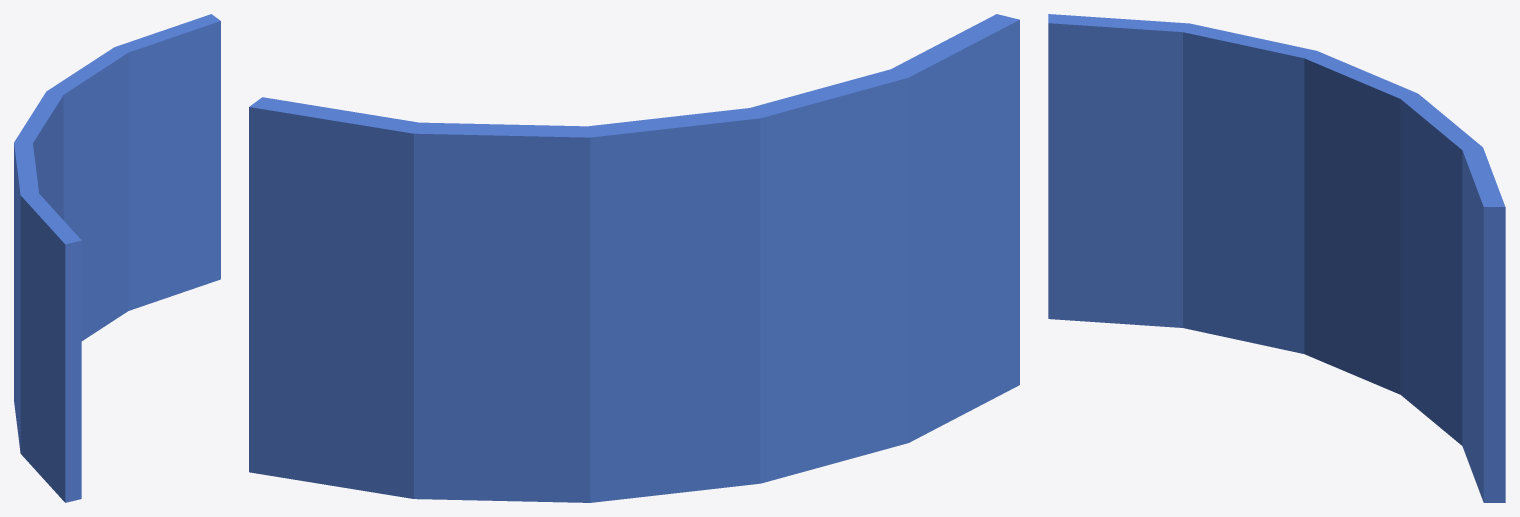
Rendered from WallPipe_Corner_Round_Inner_Collision.fbx.
3 renders of one model, left to right at view 1: azimuth 30°, elevation 25°; view 2: azimuth 150°, elevation 25°; view 3: azimuth 270°, elevation 25°, orthographic. The views are drawn at different scales.
Visible parts, largest first — view 1: WallPipe_Corner_Round_Inner_Collision; view 2: WallPipe_Corner_Round_Inner_Collision; view 3: WallPipe_Corner_Round_Inner_Collision.
Boxes of the visible parts, left/top/right/bottom form: WallPipe_Corner_Round_Inner_Collision: left=14, top=14, right=220, bottom=502; WallPipe_Corner_Round_Inner_Collision: left=249, top=14, right=1019, bottom=502; WallPipe_Corner_Round_Inner_Collision: left=1048, top=14, right=1505, bottom=502.
Size of the model in its own units: 420 by 300 by 420.
